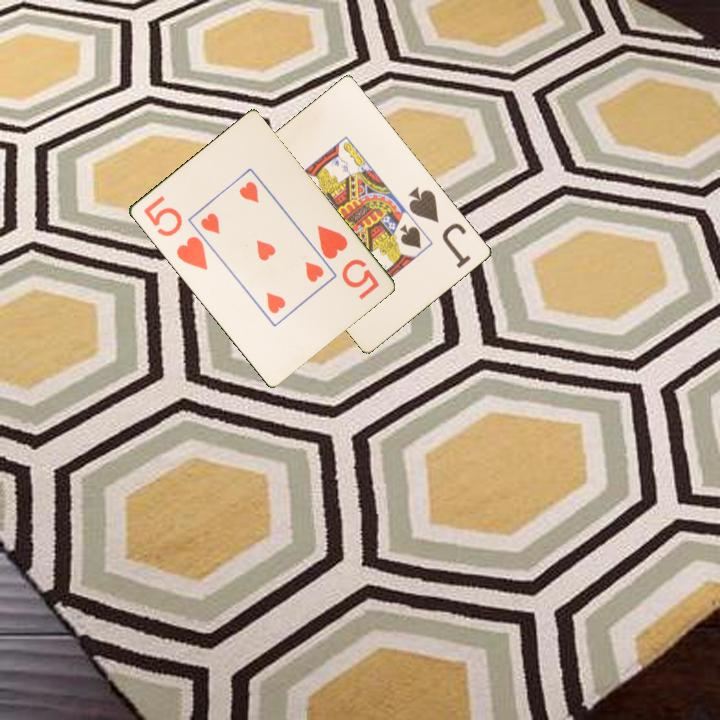5h: (139, 191, 210, 273), (313, 221, 382, 303)
Js: (405, 183, 474, 271)
